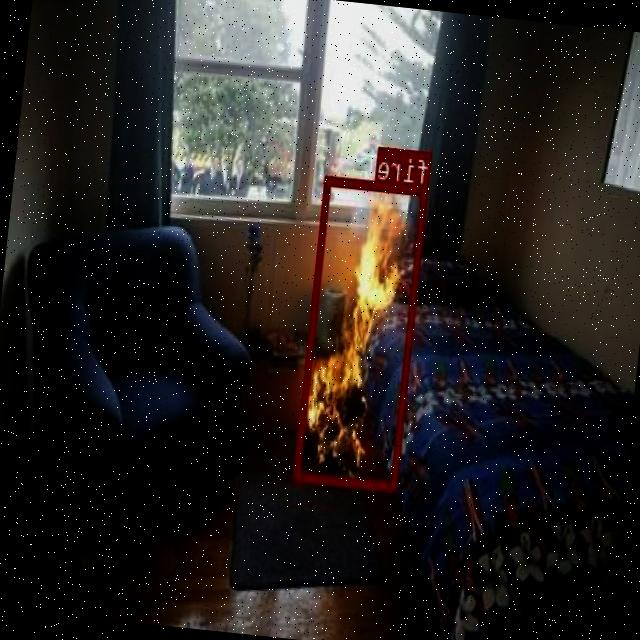fire: (294, 174, 428, 489)
